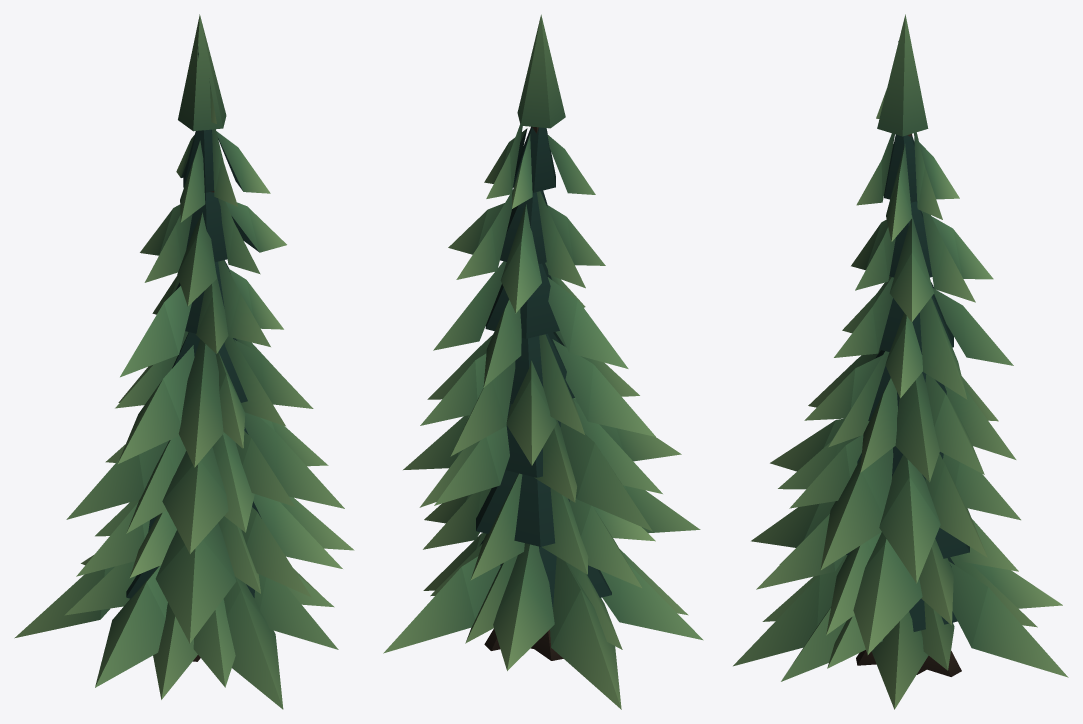
The model's file is baum_fichte2.glb.
The picture shows the model from 3 angles, left to right: view 1: azimuth 30°, elevation 25°; view 2: azimuth 150°, elevation 25°; view 3: azimuth 270°, elevation 25°; orthographic projection. The views are drawn at different scales.
Parts seen in each view (by area): view 1: baum_fichte2; view 2: baum_fichte2; view 3: baum_fichte2.
Part boxes in pixels (x1=…): baum_fichte2: x1=14, y1=14, x2=354, y2=709; baum_fichte2: x1=383, y1=14, x2=703, y2=709; baum_fichte2: x1=733, y1=14, x2=1068, y2=709.
Size of the model in its own units: 3.59 by 8.02 by 3.74.
